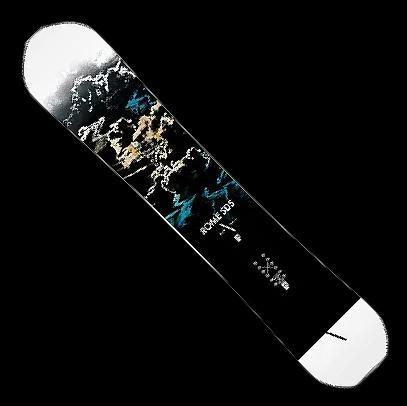Snowboard: (19, 13, 404, 396)
